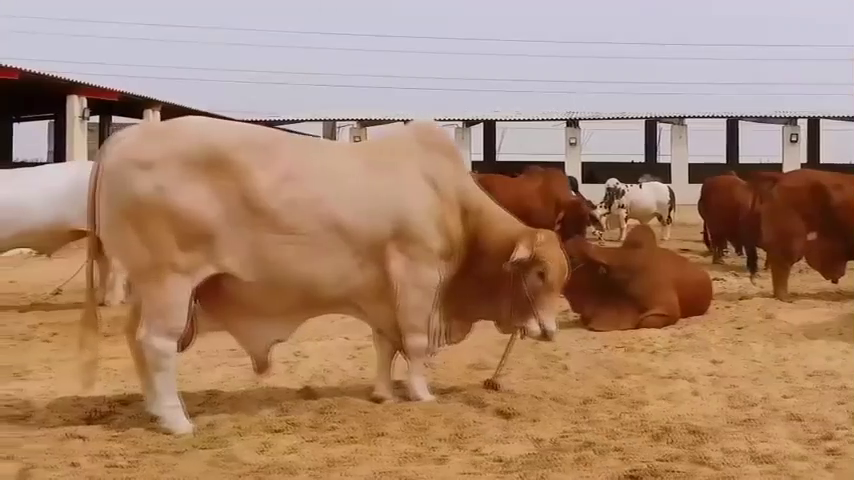bo: (72, 110, 569, 425), (2, 155, 134, 309), (561, 222, 718, 342), (746, 159, 854, 310), (471, 152, 601, 245), (593, 167, 688, 246), (697, 162, 755, 264)
